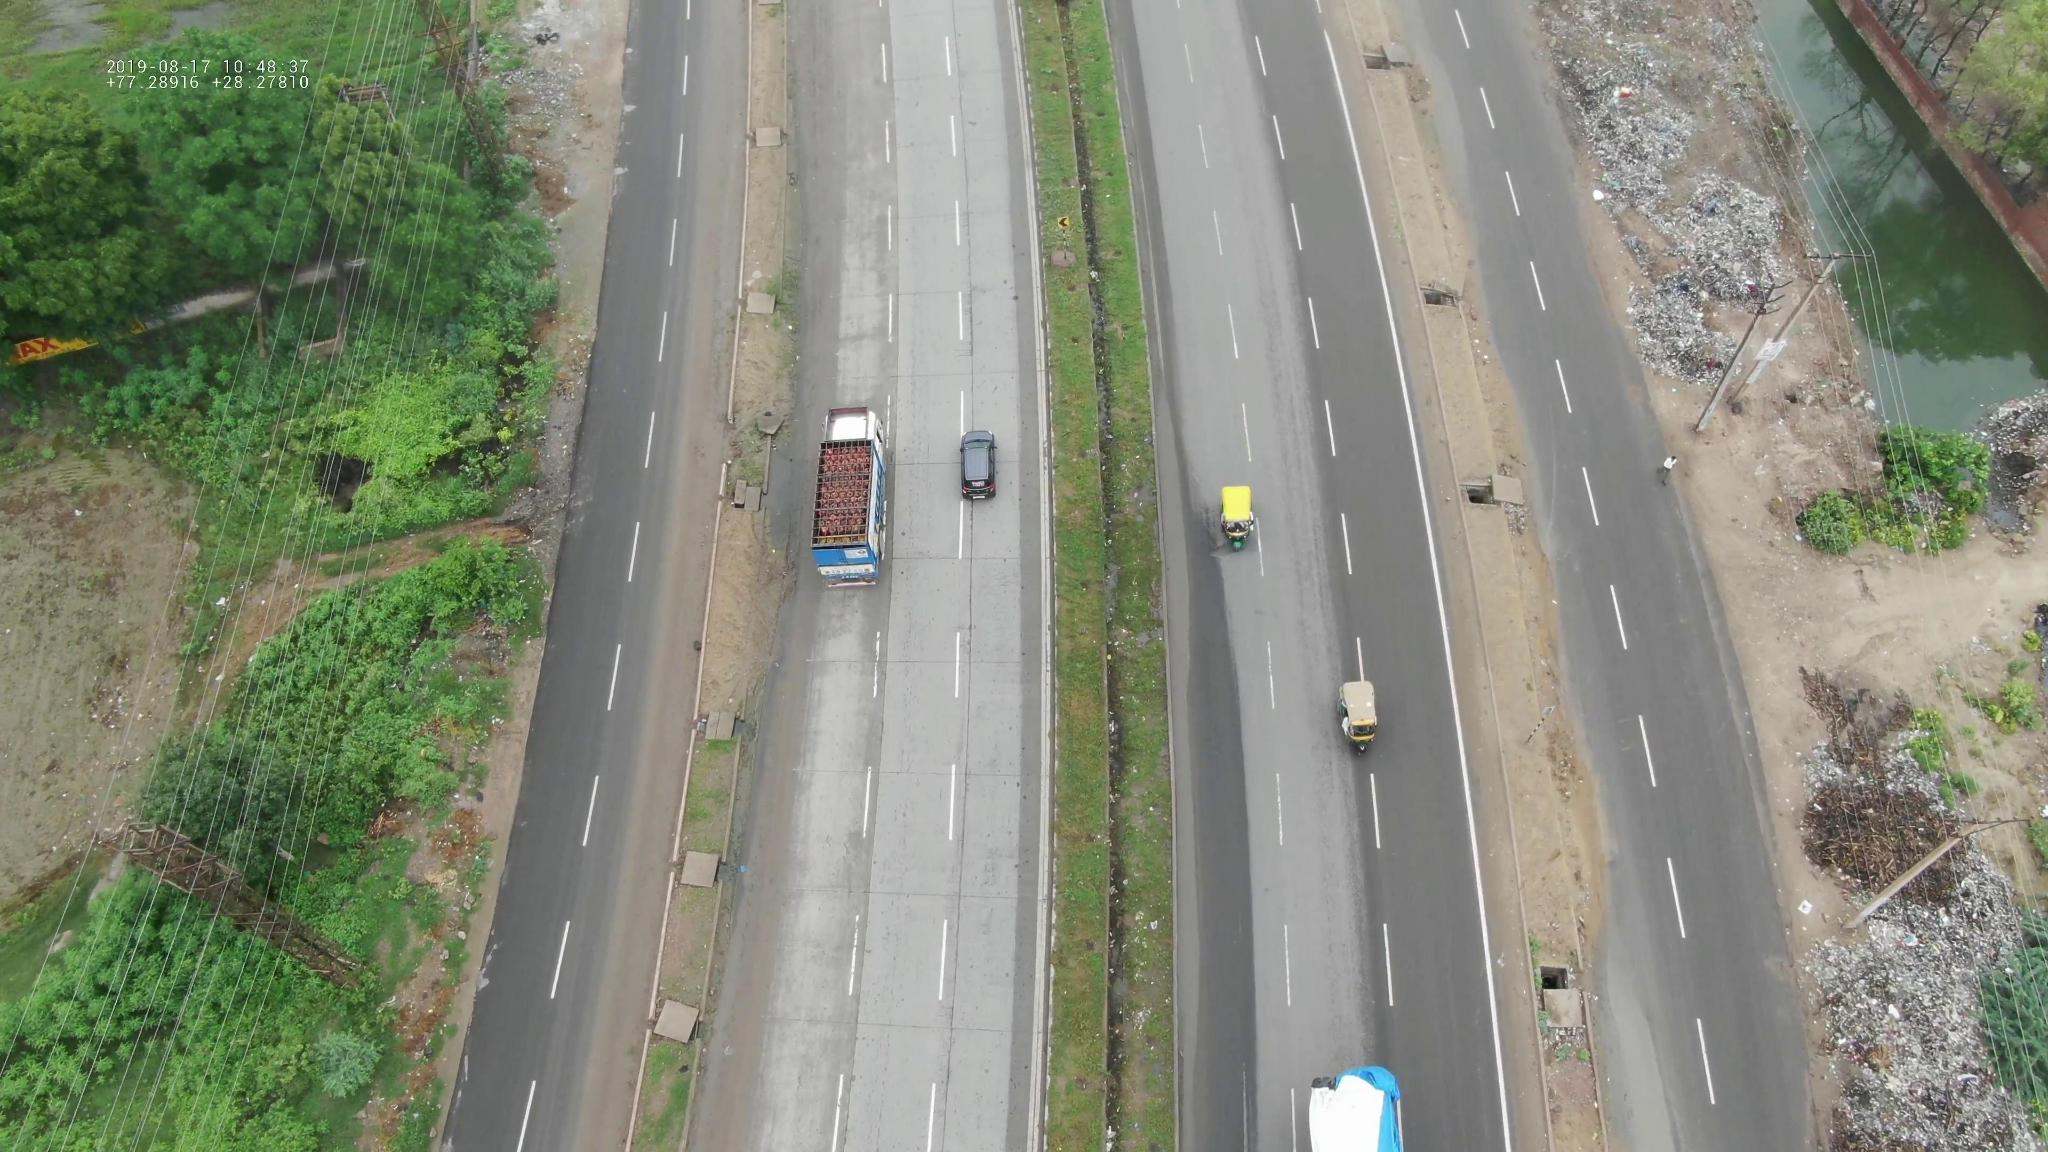Road_side_garbage: (1564, 11, 1826, 383), (1791, 909, 2024, 1151), (1795, 664, 2004, 881)
